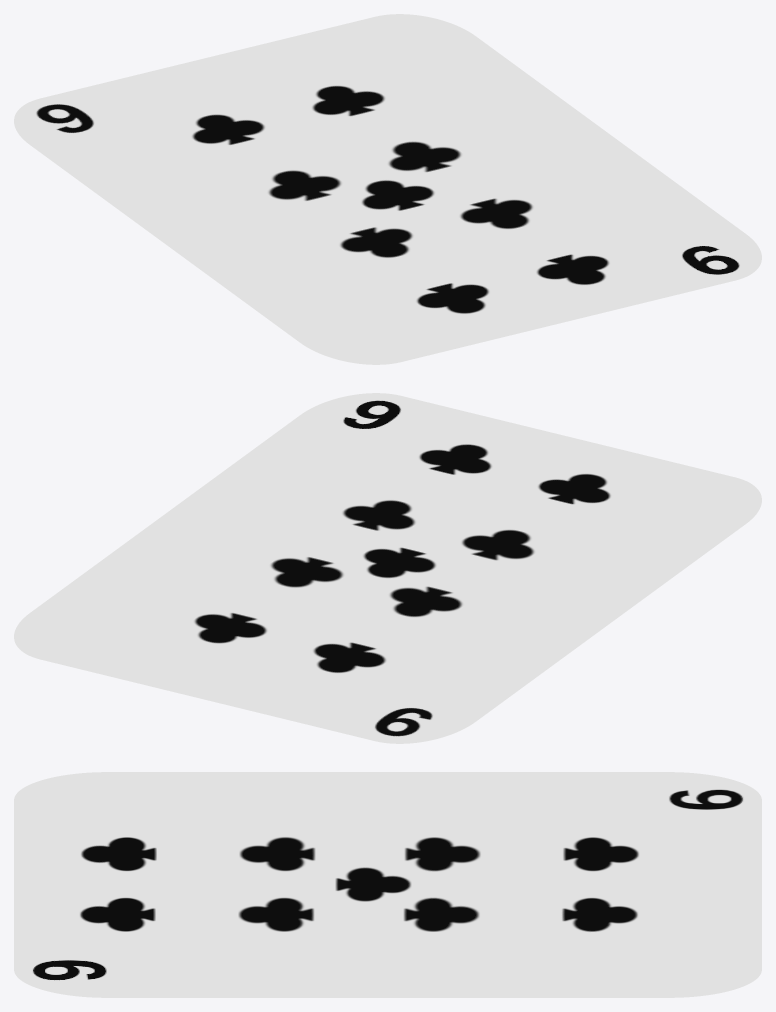
The model's file is Clubs9.fbx.
3 views of the same model, one above another, from view 1: azimuth 30°, elevation 25°; view 2: azimuth 150°, elevation 25°; view 3: azimuth 270°, elevation 25° (orthographic). The views are drawn at different scales.
Parts seen in each view (by area): view 1: Plane; view 2: Plane; view 3: Plane.
Part boxes in pixels (box(x1,y1,x2,y2)): Plane: box(14, 14, 761, 364); Plane: box(14, 393, 761, 743); Plane: box(14, 772, 761, 997).
Size of the model in its own units: 500 by 0 by 700.
1 material, 1 textured.
